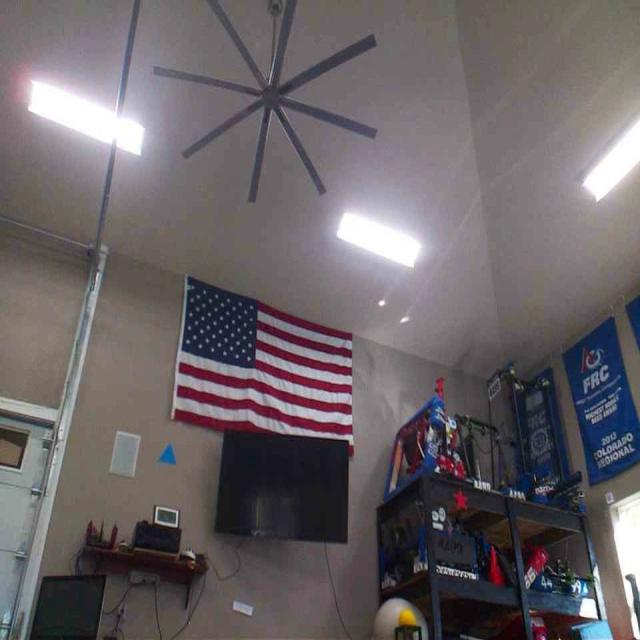star_red: (453, 488, 467, 509)
triangle_blue: (157, 442, 176, 464)
